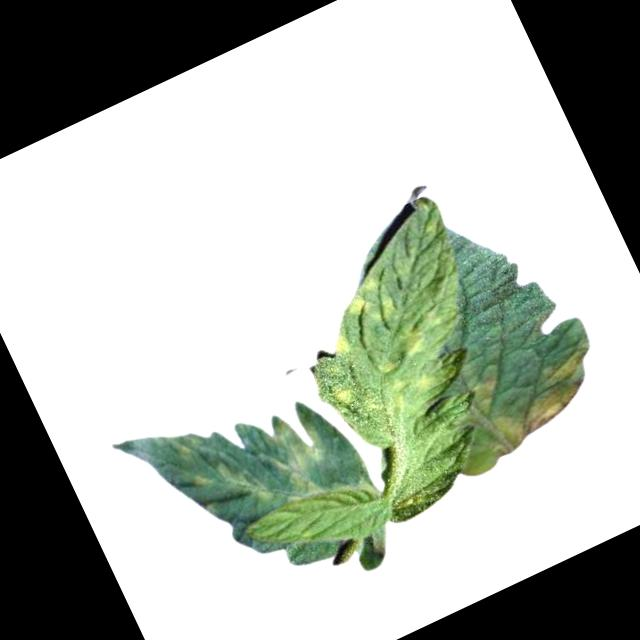Leaf_Mold: (255, 402, 342, 504), (487, 374, 595, 454), (335, 268, 401, 338), (535, 339, 595, 389), (457, 371, 507, 420), (393, 321, 431, 362), (326, 376, 358, 410), (407, 365, 437, 395), (328, 330, 353, 360)
